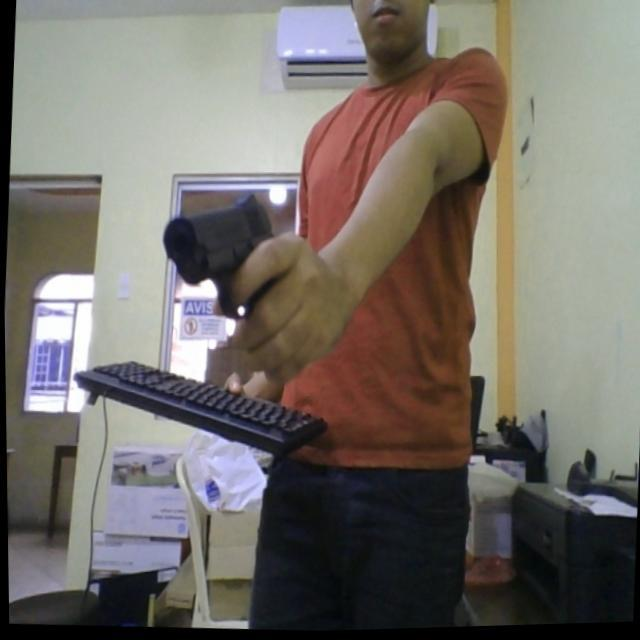weapon: (156, 185, 285, 328)
